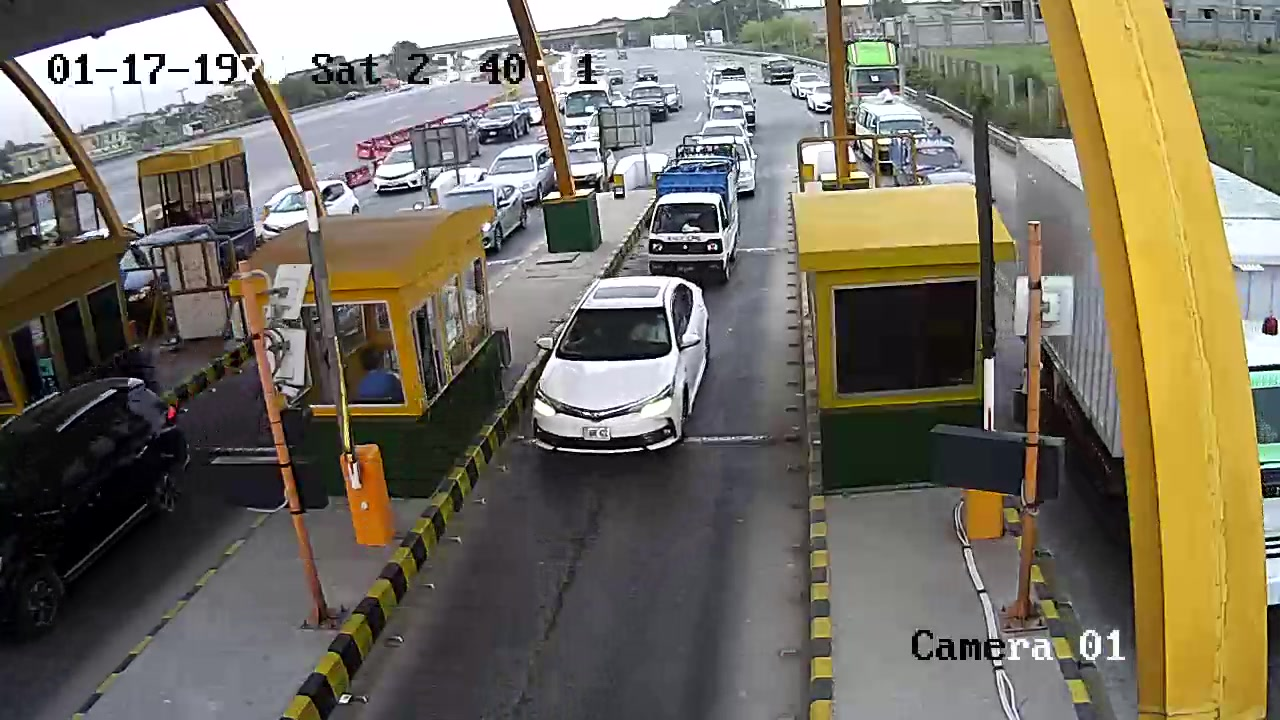F1: (524, 270, 719, 473)
